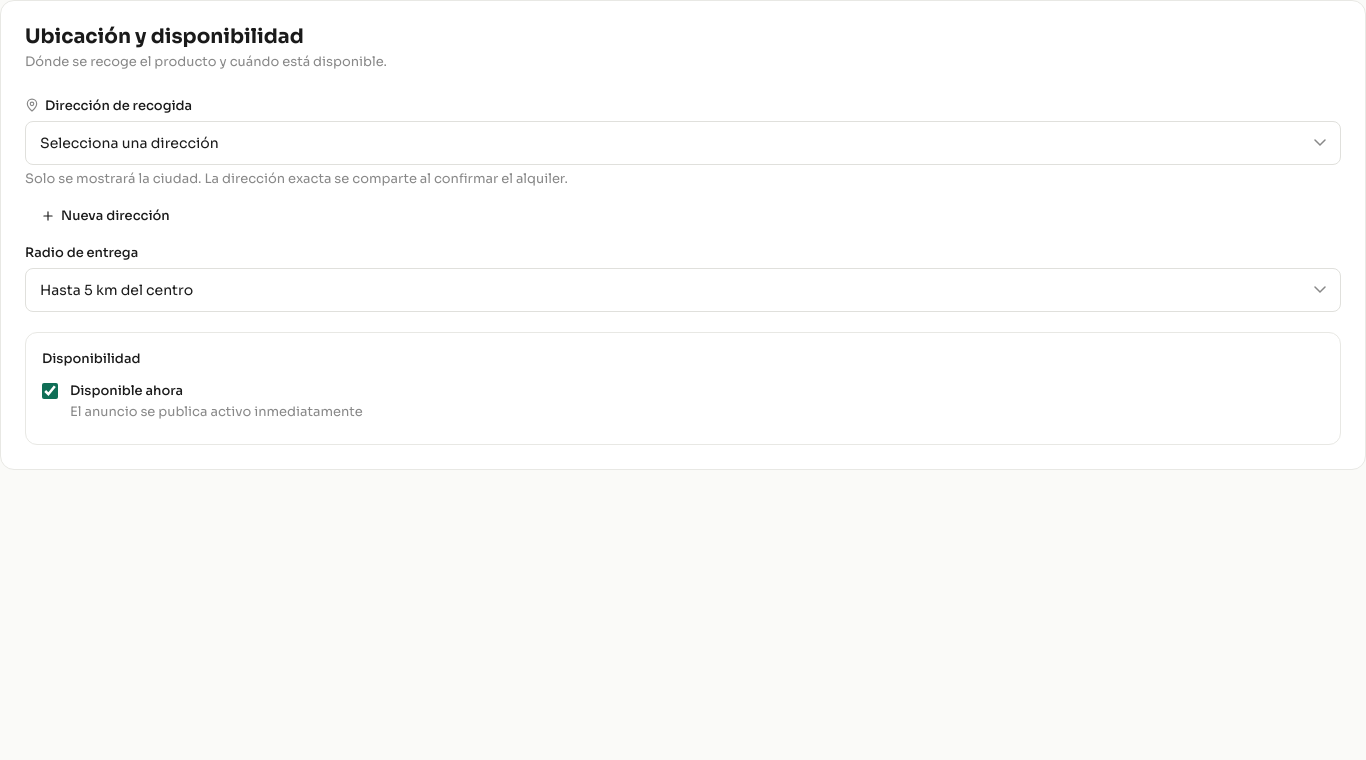
Test case: LocationSection › validates the inline address form before creating an address
Click the button "Nueva dirección": (105, 216) [25,208,186,222]
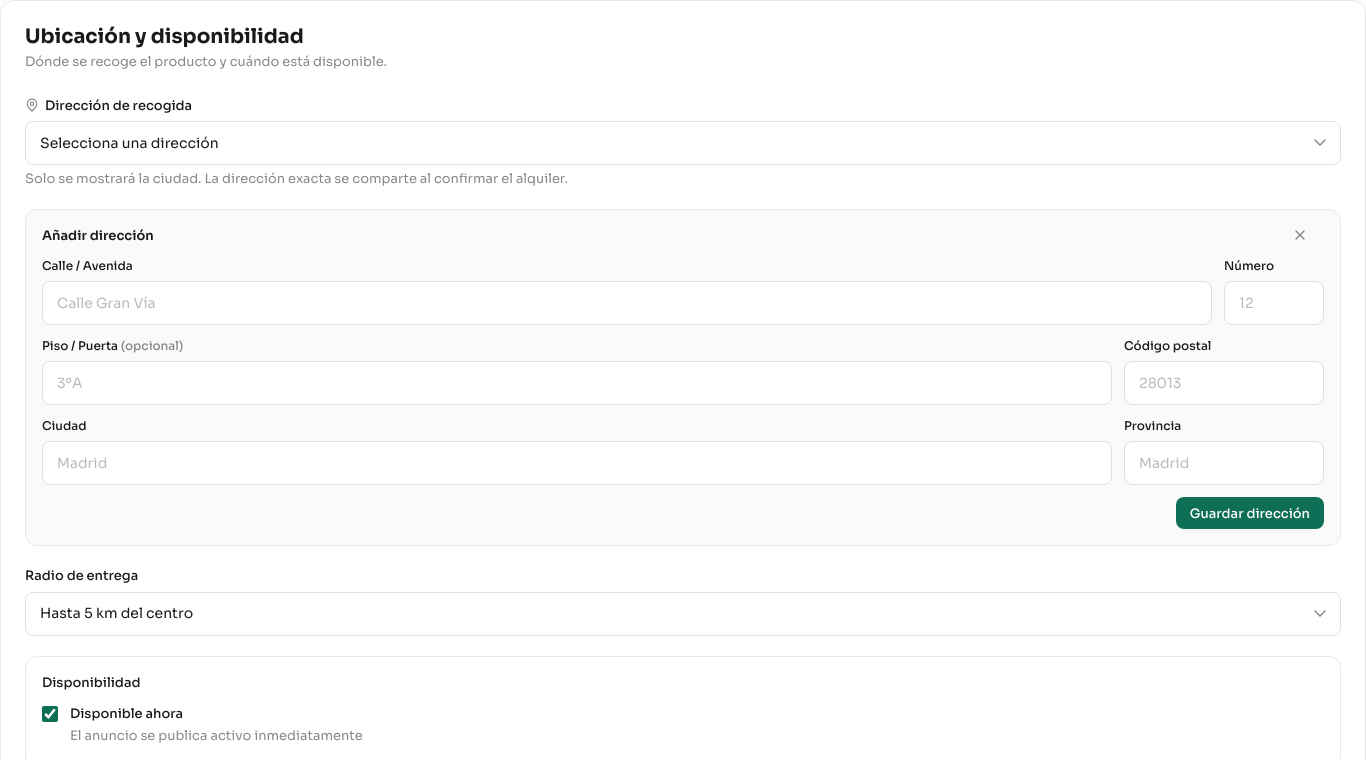
Click the button "Guardar dirección": (1250, 513) [1176,497,1324,529]
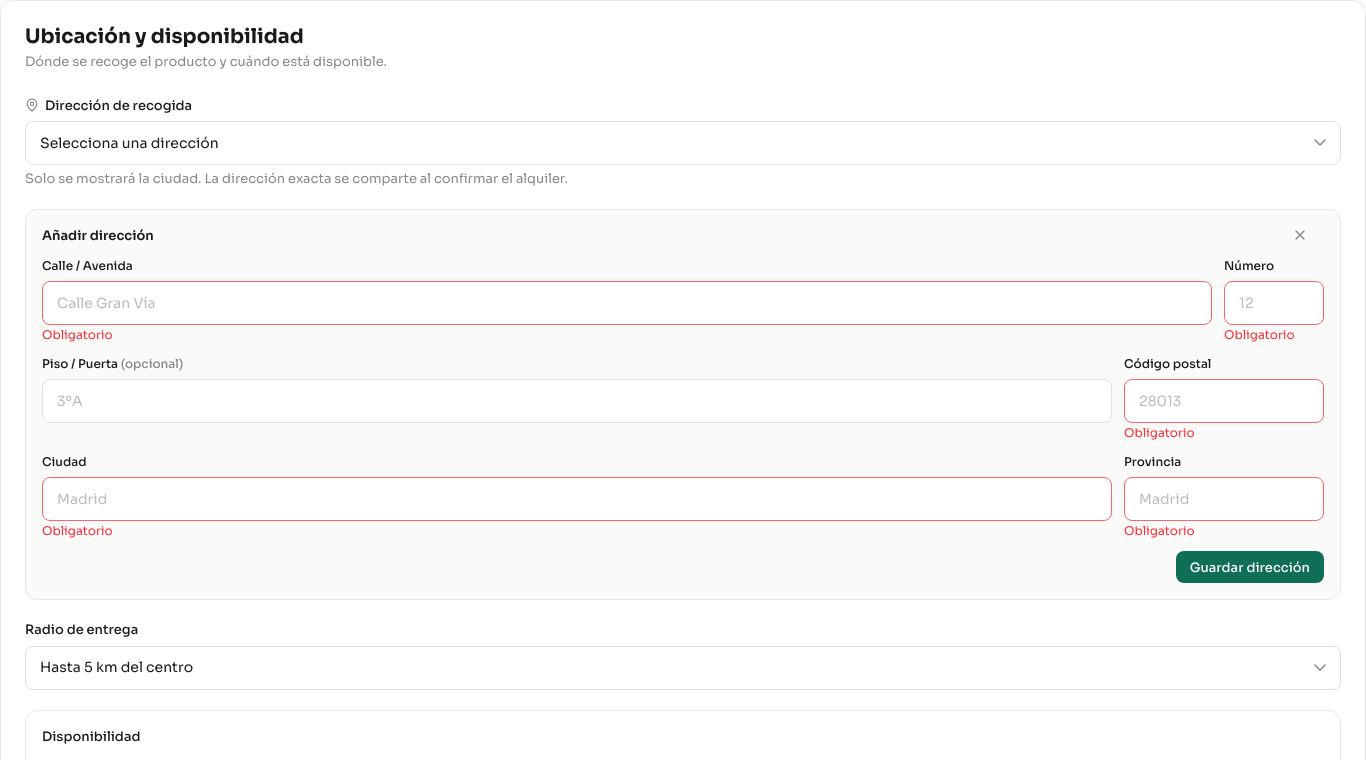
Check: the text "Obligatorio" is shown, box [42,327,113,342]
